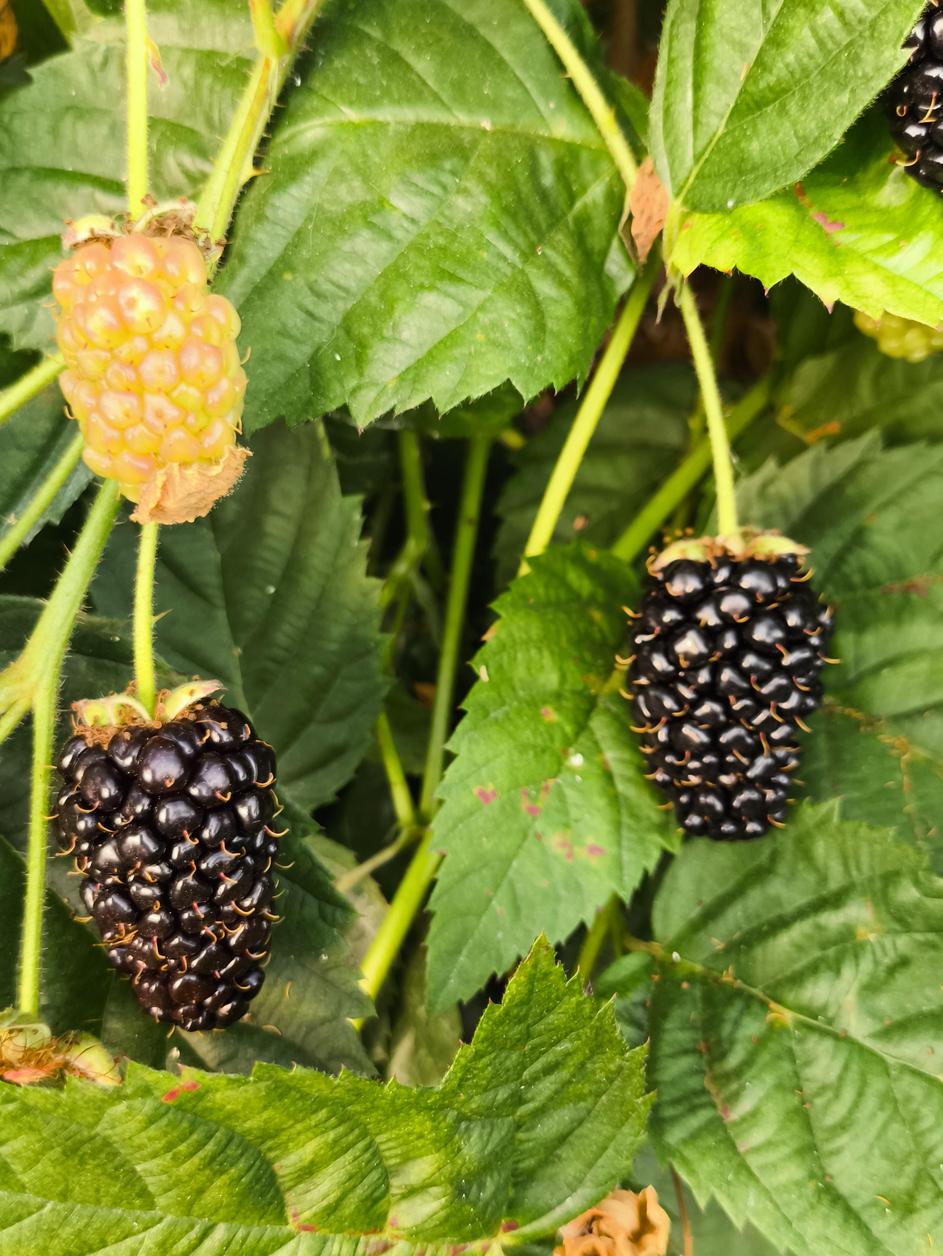maduro: (57, 698, 280, 1031), (630, 537, 833, 841)
verde: (53, 232, 248, 523)
